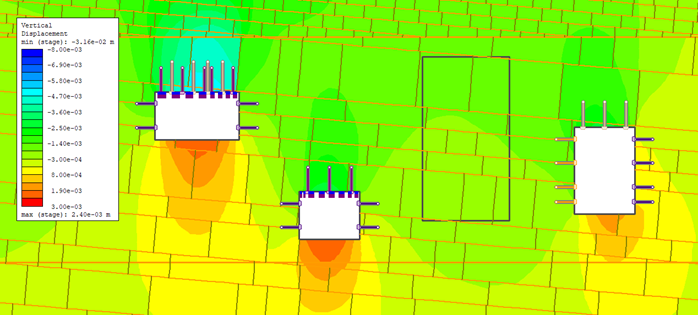crown: (181, 83, 203, 91), (594, 118, 616, 125), (318, 184, 338, 190)
label: (17, 18, 118, 220)
tunnel-opening: (574, 127, 634, 212), (154, 91, 239, 140), (299, 191, 359, 241)
